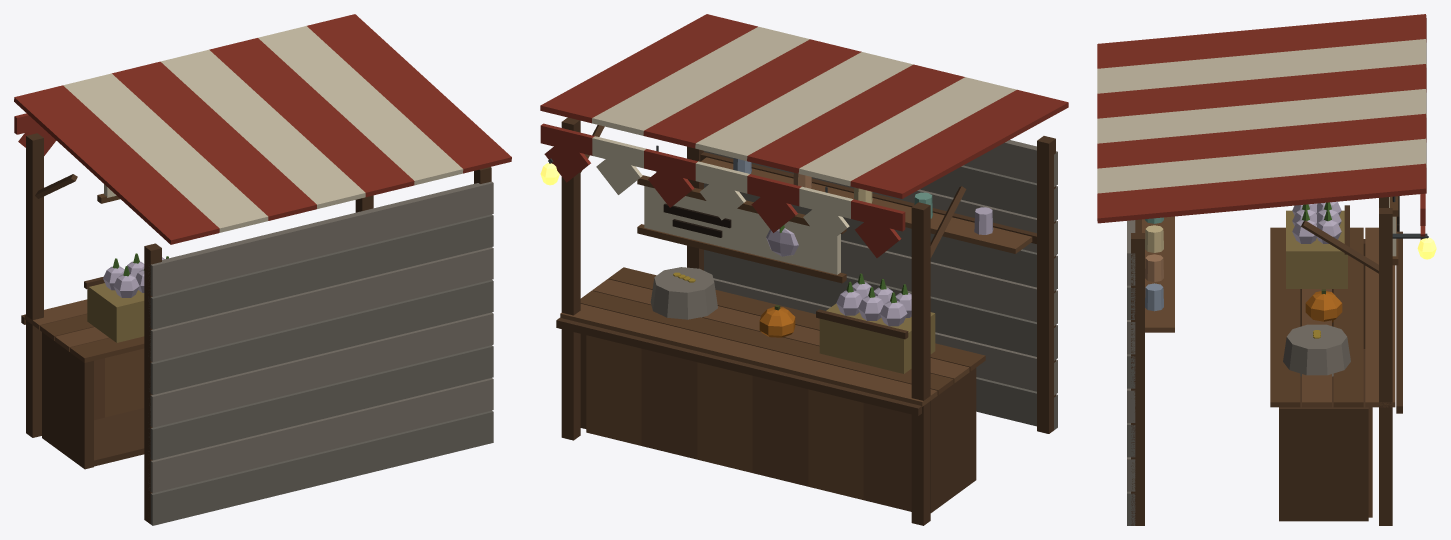
The model's file is bldg_town_stand.glb.
3 views of the same model, side by side, from view 1: azimuth 30°, elevation 25°; view 2: azimuth 150°, elevation 25°; view 3: azimuth 270°, elevation 25° (orthographic). The views are drawn at different scales.
Parts seen in each view (by area): view 1: Stand; view 2: Stand; view 3: Stand.
Part boxes in pixels (x1,y1,x2,y2): Stand: (14,14,511,525); Stand: (540,14,1068,525); Stand: (1097,14,1436,525).
Bounding box in the file's own units: 3.04 × 2.72 × 2.47.
